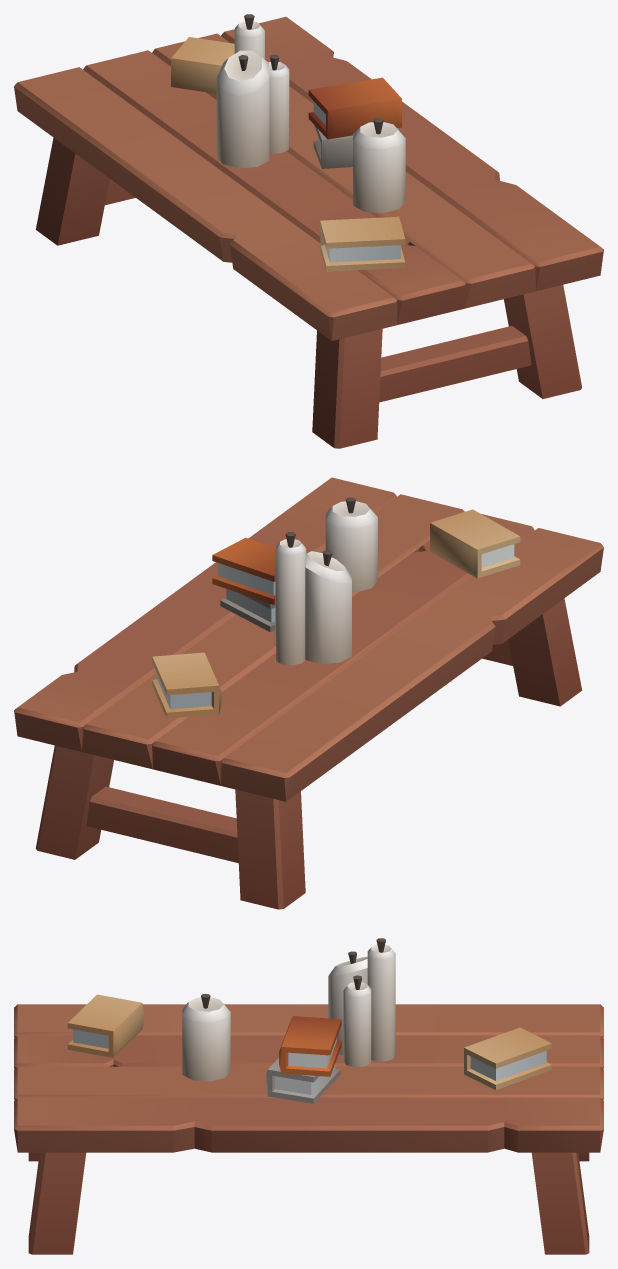
File: table_long_decorated_B.glb
3 renders of one model, top to bottom at view 1: azimuth 30°, elevation 25°; view 2: azimuth 150°, elevation 25°; view 3: azimuth 270°, elevation 25°, orthographic. The views are drawn at different scales.
Visible parts, largest first — view 1: table_long_decorated_B; view 2: table_long_decorated_B; view 3: table_long_decorated_B.
Boxes of the visible parts, x1,y1,x2,y2 form: table_long_decorated_B: [14, 14, 603, 448]; table_long_decorated_B: [14, 477, 603, 909]; table_long_decorated_B: [14, 938, 603, 1254].
Bounding box in the file's own units: 2 × 1.87 × 4.
1 material, 1 textured.
